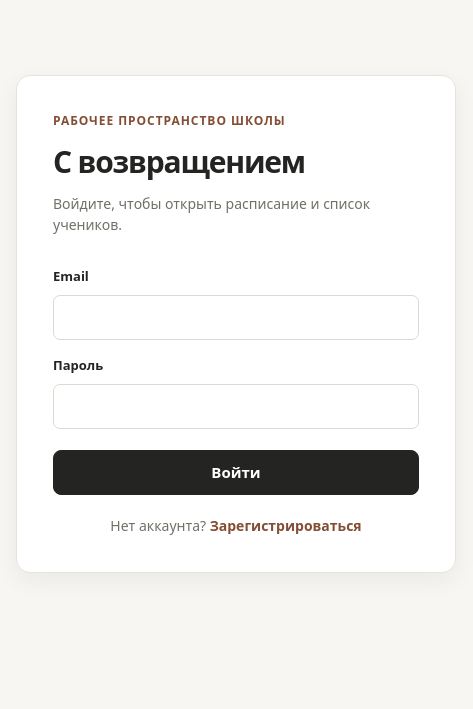
Test: teacher registration › submits teacher details and confirms successful registration
The image size is (473, 709).
Click the button "Зарегистрироваться" at {"x": 286, "y": 525}, box [210, 514, 362, 536]
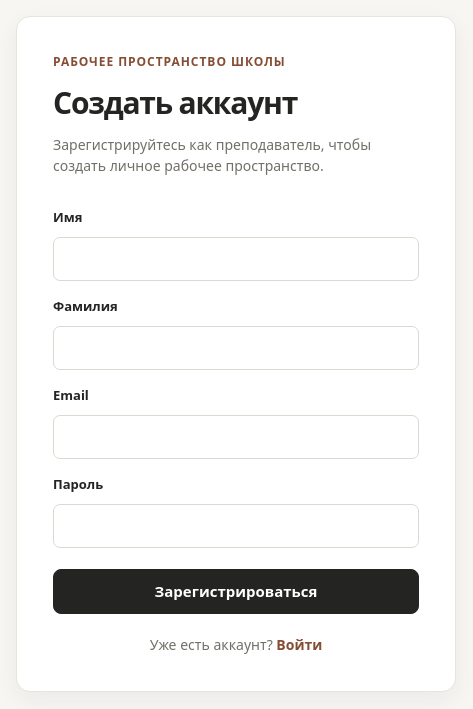
Type "Anna" into the field labelled "Имя" at {"x": 236, "y": 259}, box [53, 236, 419, 281]
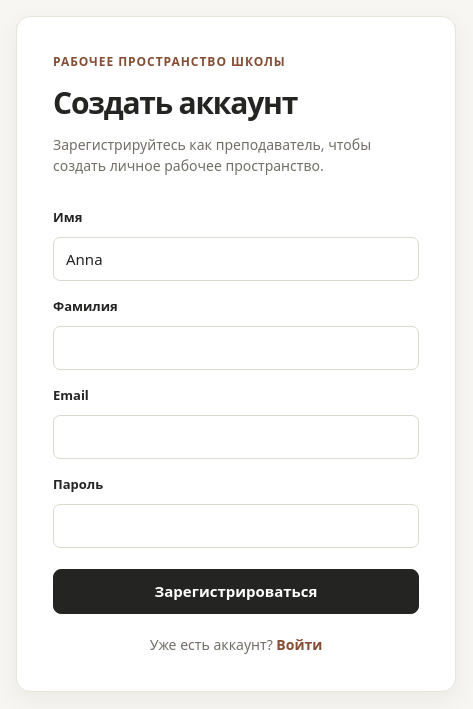
Type "Smith" into the field labelled "Фамилия" at {"x": 236, "y": 348}, box [53, 326, 419, 370]
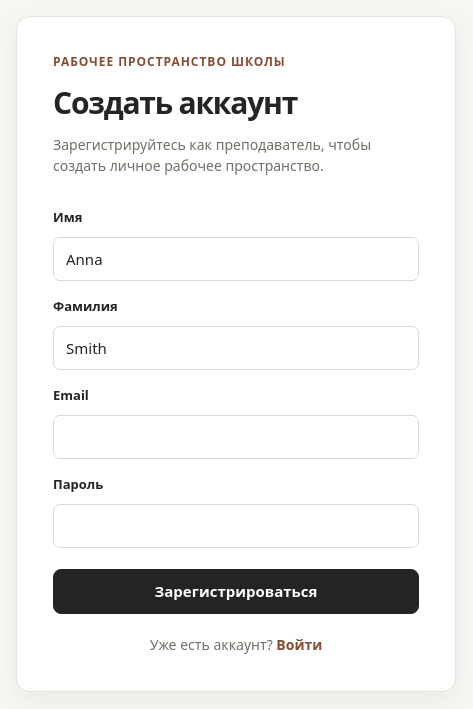
Type "anna@example.test" into the field labelled "Email" at {"x": 236, "y": 437}, box [53, 414, 419, 459]
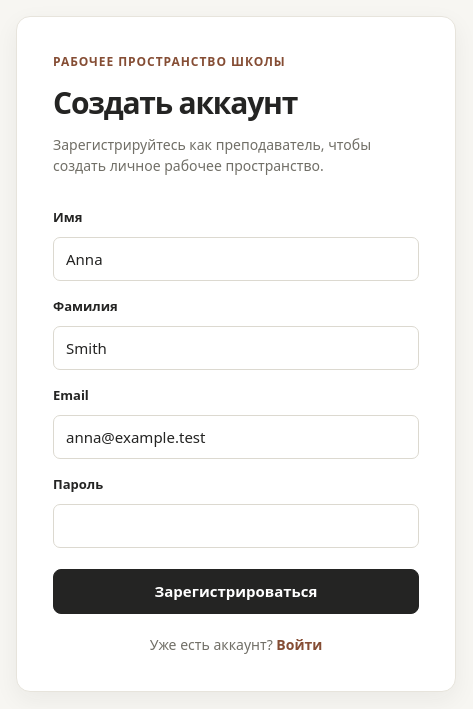
Type "secure-password" into the password field labelled "Пароль" at {"x": 236, "y": 526}, box [53, 504, 419, 548]
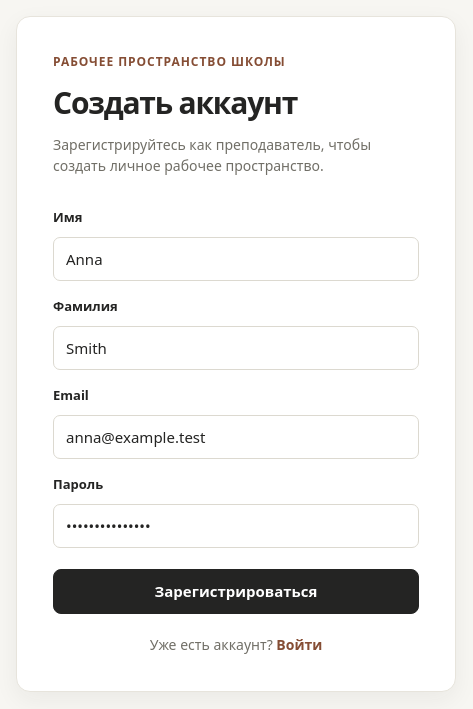
Click the button "Зарегистрироваться" at {"x": 236, "y": 592}, box [53, 569, 419, 614]
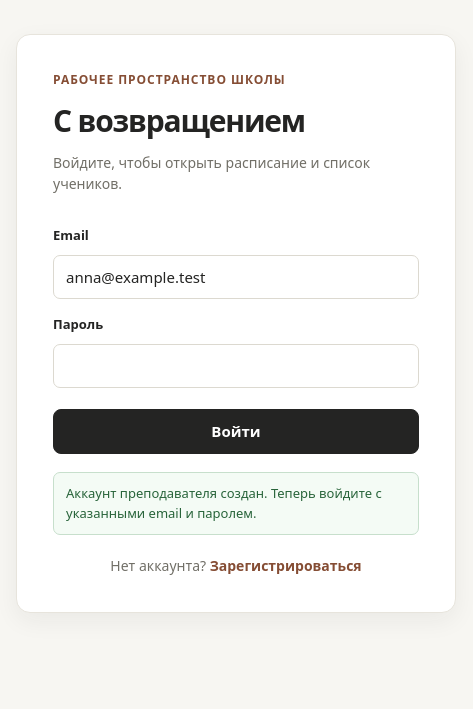
Check: the message shows "Аккаунт преподавателя создан", box [66, 484, 382, 522]
